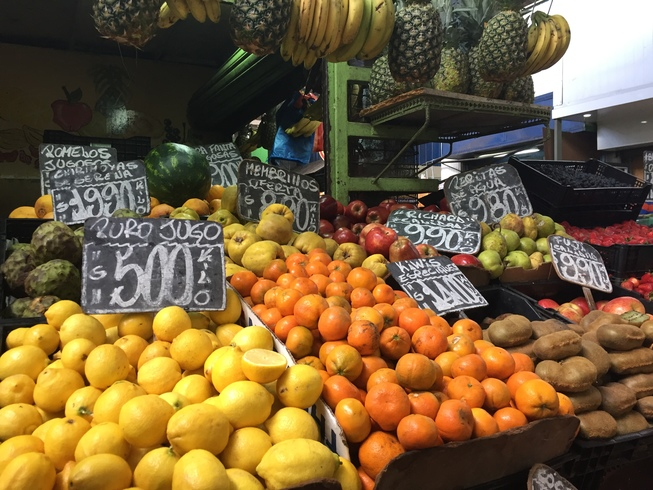precio: (77, 210, 250, 329), (377, 249, 490, 328), (49, 154, 160, 232), (232, 156, 329, 245), (438, 154, 540, 236), (379, 198, 490, 265), (40, 136, 128, 203), (545, 225, 616, 296), (185, 136, 250, 193)
